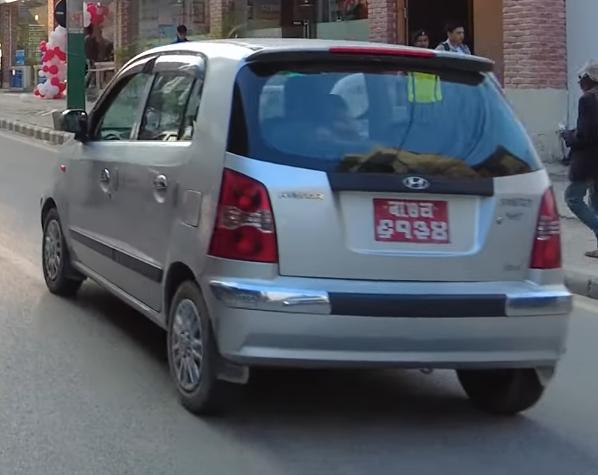car: (26, 29, 580, 431)
